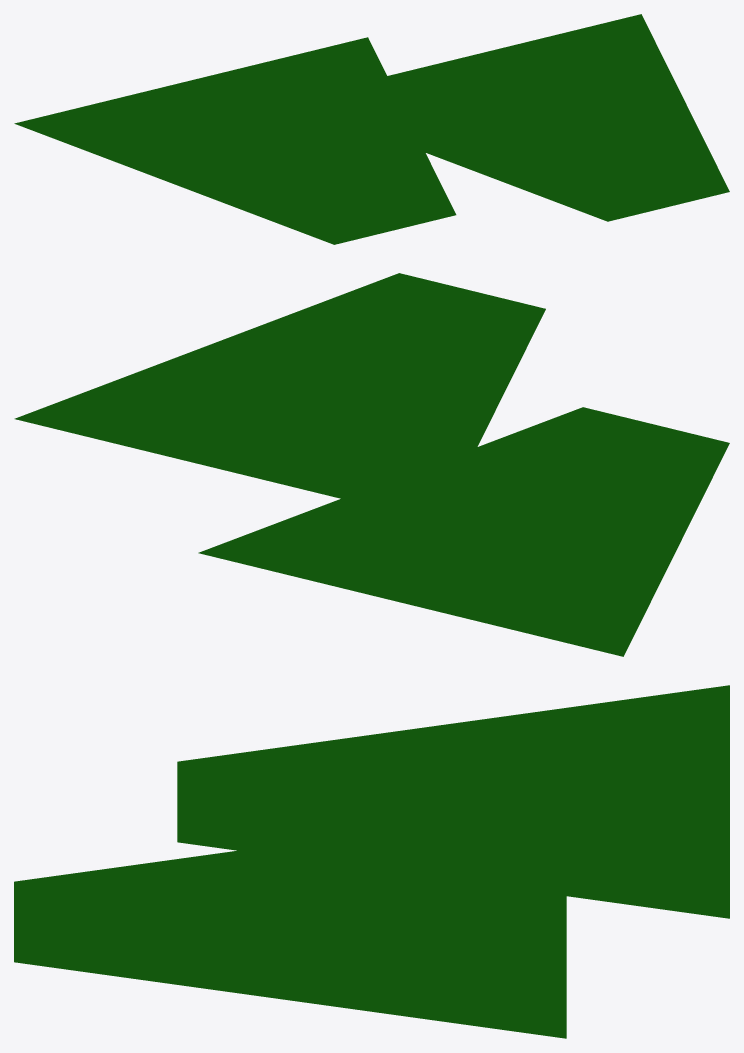
File: lettuce.glb
The picture shows the model from 3 angles, top to bottom: view 1: azimuth 30°, elevation 25°; view 2: azimuth 150°, elevation 25°; view 3: azimuth 270°, elevation 25°; orthographic projection. The views are drawn at different scales.
Parts seen in each view (by area): view 1: Plane.001, Plane; view 2: Plane.001, Plane; view 3: Plane.001, Plane.
Part boxes in pixels (x1=…): Plane.001: x1=288, y1=14, x2=729, y2=221; Plane: x1=14, y1=37, x2=456, y2=244; Plane.001: x1=14, y1=273, x2=545, y2=522; Plane: x1=198, y1=407, x2=729, y2=656; Plane.001: x1=14, y1=805, x2=566, y2=1038; Plane: x1=177, y1=685, x2=729, y2=918.
Bounding box in the file's own units: 3.2 × 0.0826 × 2.59.
